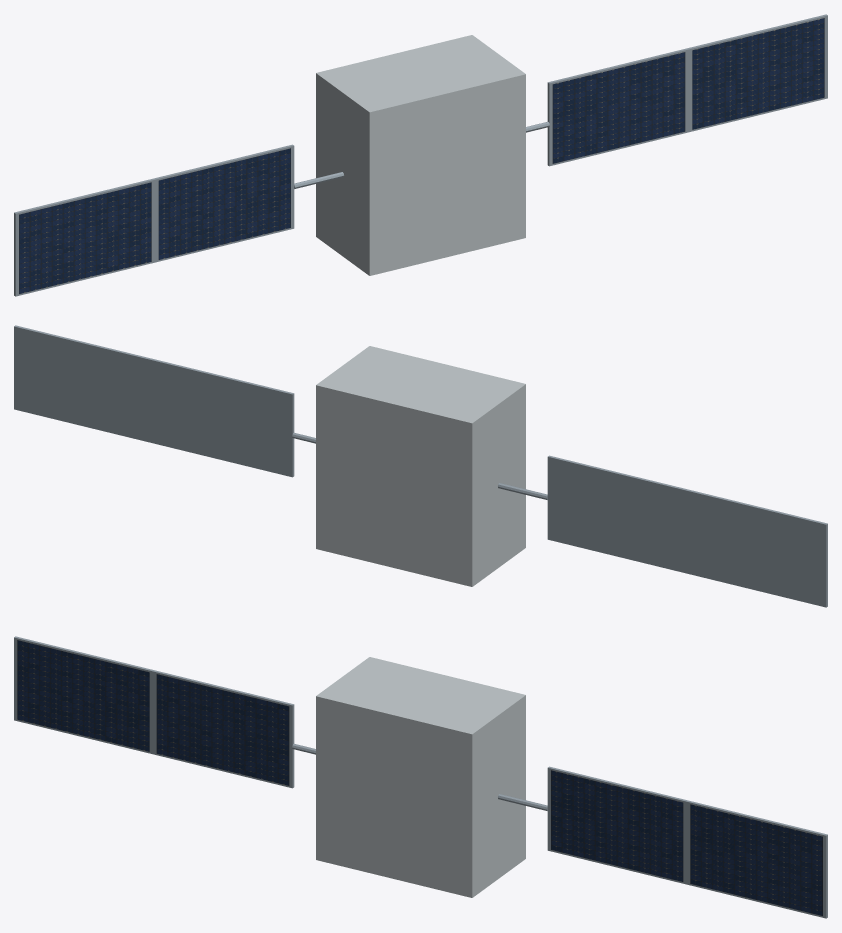
Rendered from ref-sfu-23521.glb.
3 renders of one model, top to bottom at view 1: azimuth 30°, elevation 25°; view 2: azimuth 150°, elevation 25°; view 3: azimuth 330°, elevation 25°, orthographic.
Visible parts, largest first — view 1: Photovoltaic laminates (×4), Spacecraft body, Array frame (×4); view 2: Array frame (×4), Spacecraft body; view 3: Photovoltaic laminates (×4), Spacecraft body, Array frame (×4).
Part boxes in pixels (left/top/right/bottom): Photovoltaic laminates (×4): left=19, top=18, right=824, bottom=293; Spacecraft body: left=316, top=35, right=525, bottom=275; Array frame (×4): left=14, top=14, right=827, bottom=296; Array frame (×4): left=14, top=325, right=827, bottom=607; Spacecraft body: left=316, top=346, right=525, bottom=586; Photovoltaic laminates (×4): left=17, top=640, right=822, bottom=915; Spacecraft body: left=316, top=657, right=525, bottom=897; Array frame (×4): left=14, top=636, right=827, bottom=918.
Size of the model in its own units: 24.4 by 4.7 by 2.8.
Materials: 3 (1 with a texture image).
